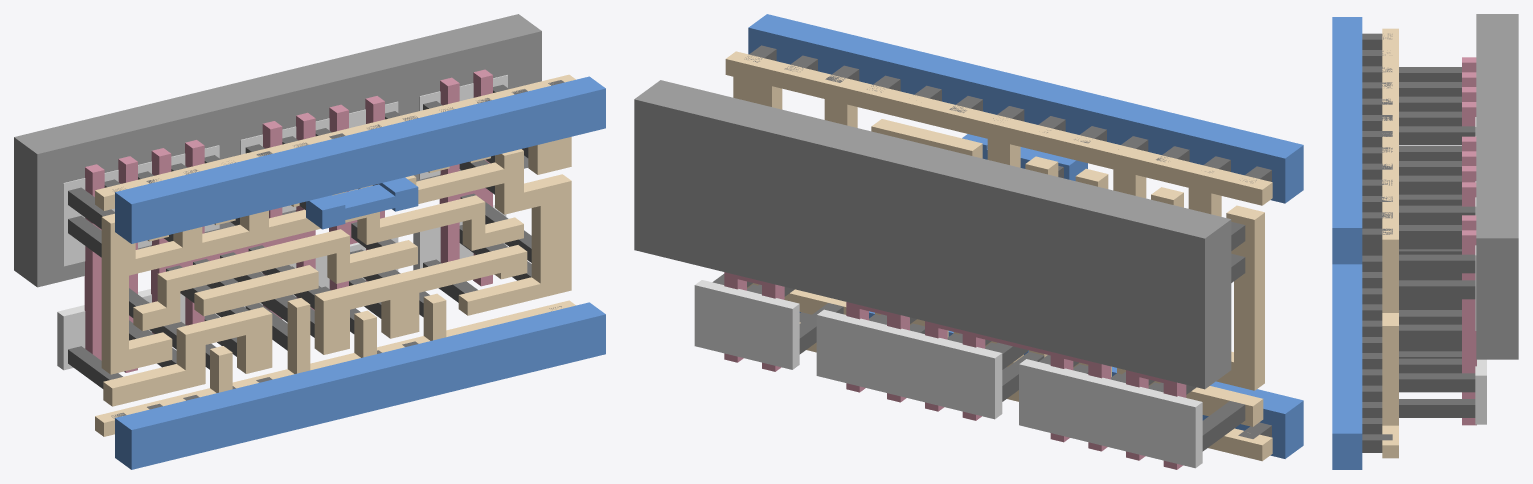
File: sky130_fd_sc_hd__xnor2_2.gds.gltf
The picture shows the model from 3 angles, left to right: view 1: azimuth 30°, elevation 25°; view 2: azimuth 150°, elevation 25°; view 3: azimuth 270°, elevation 25°; orthographic projection. The views are drawn at different scales.
Parts seen in each view (by area): view 1: sky130_fd_sc_hd__xnor2_2_li1, sky130_fd_sc_hd__xnor2_2_met1, sky130_fd_sc_hd__xnor2_2_nwell, sky130_fd_sc_hd__xnor2_2_licon, sky130_fd_sc_hd__xnor2_2_poly, sky130_fd_sc_hd__xnor2_2_diff, sky130_fd_sc_hd__xnor2_2_mcon; view 2: sky130_fd_sc_hd__xnor2_2_nwell, sky130_fd_sc_hd__xnor2_2_diff, sky130_fd_sc_hd__xnor2_2_li1, sky130_fd_sc_hd__xnor2_2_met1, sky130_fd_sc_hd__xnor2_2_licon, sky130_fd_sc_hd__xnor2_2_poly, sky130_fd_sc_hd__xnor2_2_mcon; view 3: sky130_fd_sc_hd__xnor2_2_licon, sky130_fd_sc_hd__xnor2_2_nwell, sky130_fd_sc_hd__xnor2_2_met1, sky130_fd_sc_hd__xnor2_2_mcon, sky130_fd_sc_hd__xnor2_2_li1, sky130_fd_sc_hd__xnor2_2_poly, sky130_fd_sc_hd__xnor2_2_diff.
Part boxes in pixels (x1,y1,x2,y2): sky130_fd_sc_hd__xnor2_2_li1: [95, 74, 575, 436]; sky130_fd_sc_hd__xnor2_2_met1: [115, 76, 605, 469]; sky130_fd_sc_hd__xnor2_2_nwell: [14, 14, 541, 287]; sky130_fd_sc_hd__xnor2_2_licon: [68, 84, 531, 388]; sky130_fd_sc_hd__xnor2_2_poly: [84, 69, 492, 372]; sky130_fd_sc_hd__xnor2_2_diff: [57, 75, 507, 370]; sky130_fd_sc_hd__xnor2_2_mcon: [111, 80, 564, 418]; sky130_fd_sc_hd__xnor2_2_nwell: [634, 80, 1231, 389]; sky130_fd_sc_hd__xnor2_2_diff: [694, 280, 1202, 468]; sky130_fd_sc_hd__xnor2_2_li1: [725, 51, 1272, 461]; sky130_fd_sc_hd__xnor2_2_met1: [748, 14, 1303, 458]; sky130_fd_sc_hd__xnor2_2_licon: [712, 222, 1245, 451]; sky130_fd_sc_hd__xnor2_2_poly: [724, 272, 1186, 469]; sky130_fd_sc_hd__xnor2_2_mcon: [744, 45, 1271, 438]; sky130_fd_sc_hd__xnor2_2_licon: [1399, 67, 1475, 417]; sky130_fd_sc_hd__xnor2_2_nwell: [1476, 14, 1518, 359]; sky130_fd_sc_hd__xnor2_2_met1: [1332, 17, 1362, 469]; sky130_fd_sc_hd__xnor2_2_mcon: [1362, 33, 1392, 452]; sky130_fd_sc_hd__xnor2_2_li1: [1382, 28, 1398, 458]; sky130_fd_sc_hd__xnor2_2_poly: [1462, 57, 1476, 425]; sky130_fd_sc_hd__xnor2_2_diff: [1475, 117, 1486, 424].
Size of the model in its own units: 6.36 by 3.2 by 2.24.
